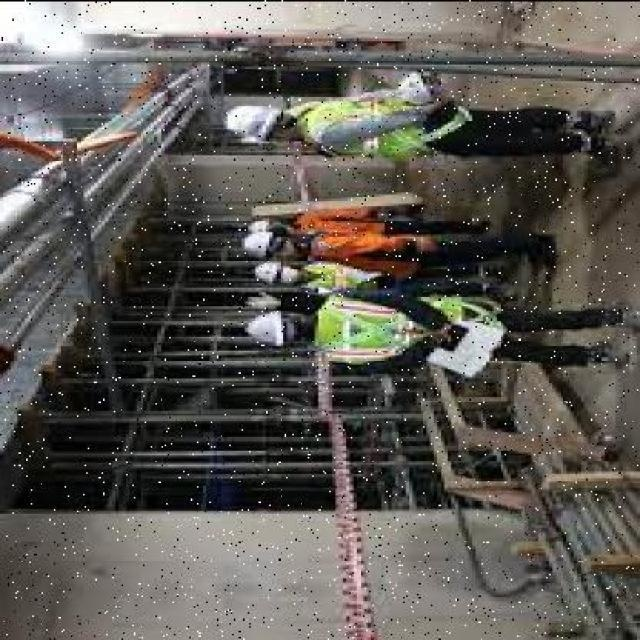Arnes_seguridad: (319, 291, 510, 371), (299, 98, 487, 161)
